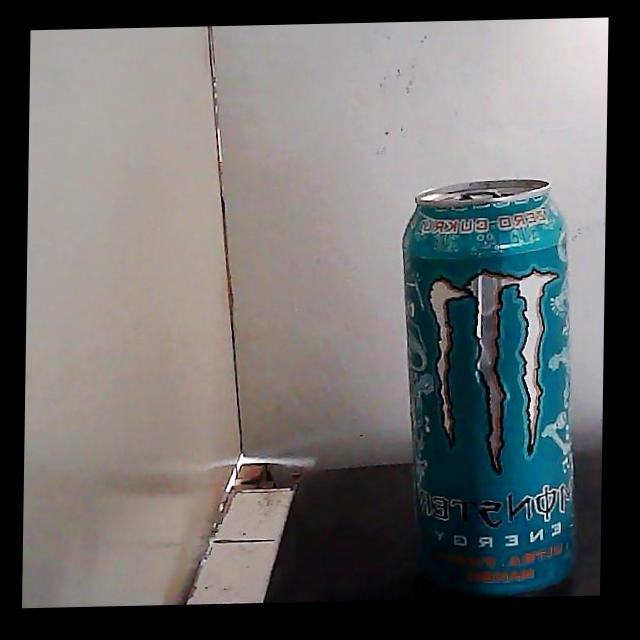metal: (403, 180, 574, 595)
